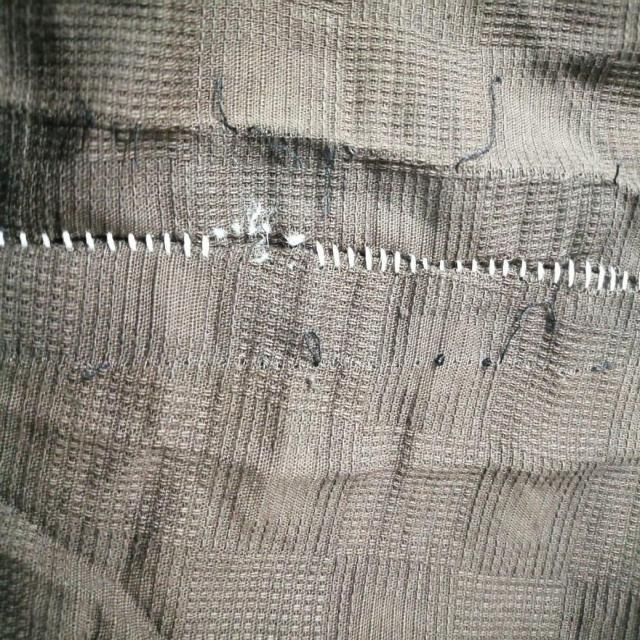gray stitch: (313, 234, 633, 295), (2, 216, 277, 261)
